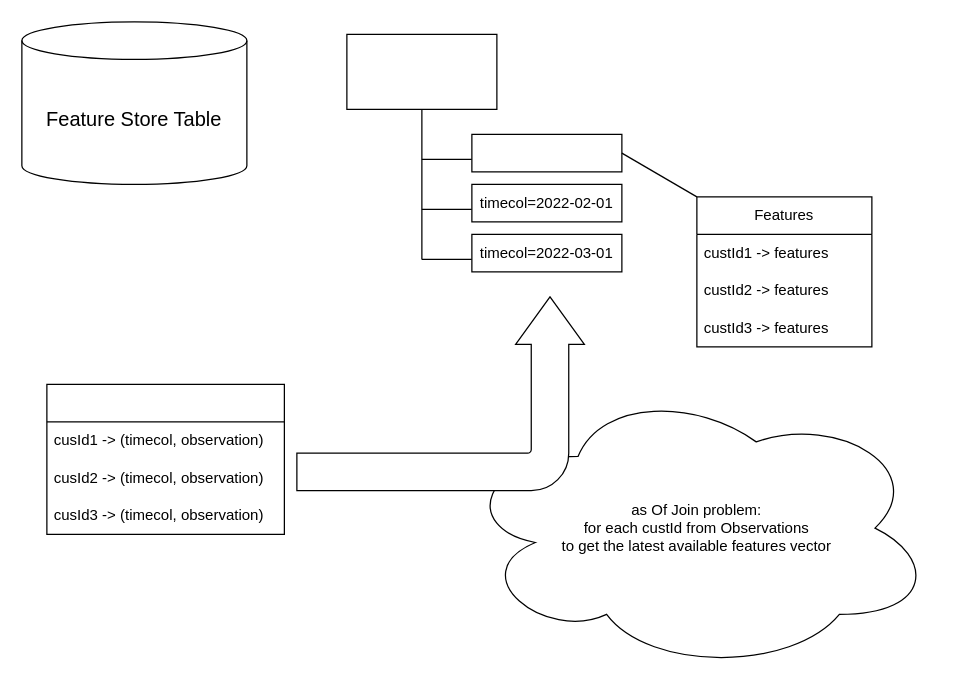
Some shapes in this 956 by 694 pixel diagram are drawn without their labels. The shapes that lost their labels are listed below. From the top down, each one's box as (x1, y1, x2, y2) in pixels, then its label:
(346, 33, 497, 109): Table root
(471, 133, 622, 172): timecol=2022-01-01
(46, 383, 284, 534): Observations
